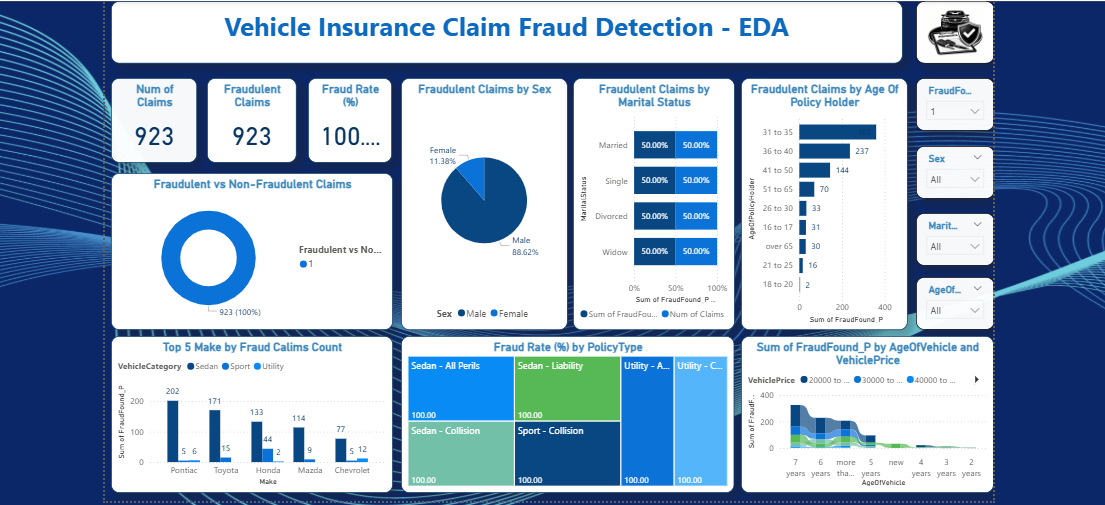

What the dashboard file says about the page in this screenshot:
{"tool":"powerbi","page":{"name":"Page 1","canvas":[1280,720],"ordinal":0},"visuals":[{"type":"textbox","box":[8.1,0,1139.5,89.5],"z":0},{"type":"image","box":[1167.4,0,112.8,89.5],"z":1000},{"type":"card","title":"Num of Claims","fields":{"Values":["vehicle_fraud.Num of Claims"]},"box":[8.1,110.5,124.4,122.1],"z":2000},{"type":"card","title":"Fraudulent Claims","fields":{"Values":["Sum(vehicle_fraud.FraudFound_P)"]},"box":[146.5,110.5,129.1,122.1],"z":3000},{"type":"card","title":"Fraud Rate (%)","fields":{"Values":["vehicle_fraud.Fraud Rate (%)"]},"box":[293,110.5,120.9,122.1],"z":4000},{"type":"donutChart","title":" Fraudulent vs Non-Fraudulent Claims ","fields":{"Category":["vehicle_fraud.FraudFound_P"],"Y":["vehicle_fraud.Num of Claims"]},"box":[8.1,247.7,405.8,225.6],"z":5000},{"type":"pieChart","title":" Fraudulent  Claims  by Sex","fields":{"Category":["vehicle_fraud.Sex"],"Y":["Sum(vehicle_fraud.FraudFound_P)"]},"box":[425.6,110.5,239.5,362.8],"z":6000},{"type":"hundredPercentStackedBarChart","title":" Fraudulent  Claims  by Marital Status","fields":{"Category":["vehicle_fraud.MaritalStatus"],"Y":["Sum(vehicle_fraud.FraudFound_P)","vehicle_fraud.Num of Claims"]},"box":[673.3,110.5,232.6,362.8],"z":7000},{"type":"clusteredBarChart","title":" Fraudulent  Claims  by Age Of Policy Holder","fields":{"Category":["vehicle_fraud.AgeOfPolicyHolder"],"Y":["Sum(vehicle_fraud.FraudFound_P)"]},"box":[916.3,110.5,239.5,362.8],"z":8000},{"type":"slicer","fields":{"Values":["vehicle_fraud.FraudFound_P"]},"box":[1167.4,110.5,112.8,75.6],"z":9000},{"type":"slicer","fields":{"Values":["vehicle_fraud.Sex"]},"box":[1167.4,209.3,112.8,75.6],"z":10000},{"type":"slicer","fields":{"Values":["vehicle_fraud.MaritalStatus"]},"box":[1167.4,305.8,112.8,75.6],"z":11000},{"type":"slicer","fields":{"Values":["vehicle_fraud.AgeOfPolicyHolder"]},"box":[1167.4,397.7,112.8,75.6],"z":12000},{"type":"clusteredColumnChart","title":" Top 5 Make by Fraud Calims Count","fields":{"Category":["vehicle_fraud.Make"],"Y":["Sum(vehicle_fraud.FraudFound_P)"],"Series":["vehicle_fraud.VehicleCategory"]},"box":[9.3,482.6,405.8,225.6],"z":13000},{"type":"treemap","fields":{"Group":["vehicle_fraud.PolicyType"],"Values":["vehicle_fraud.Fraud Rate (%)"]},"box":[426.2,482.5,480,226.2],"z":14000},{"type":"ribbonChart","fields":{"Category":["vehicle_fraud.AgeOfVehicle"],"Y":["Sum(vehicle_fraud.FraudFound_P)"],"Series":["vehicle_fraud.VehiclePrice"]},"box":[916.2,482.5,363.8,226.2],"z":14001}]}

Visuals, with their boxes on the page's 1280x720 design canvas (x1, y1, x2, y2). These are canvas units, not pixel positions in the 1105x505 screenshot, which may show the page scaled, cropped or inside an application window:
textbox: detection(8, 0, 1148, 90)
image: detection(1167, 0, 1280, 90)
"Num of Claims" card: detection(8, 110, 132, 233)
"Fraudulent Claims" card: detection(146, 110, 276, 233)
"Fraud Rate (%)" card: detection(293, 110, 414, 233)
" Fraudulent vs Non-Fraudulent Claims " donutChart: detection(8, 248, 414, 473)
" Fraudulent  Claims  by Sex" pieChart: detection(426, 110, 665, 473)
" Fraudulent  Claims  by Marital Status" hundredPercentStackedBarChart: detection(673, 110, 906, 473)
" Fraudulent  Claims  by Age Of Policy Holder" clusteredBarChart: detection(916, 110, 1156, 473)
slicer - vehicle_fraud.FraudFound_P: detection(1167, 110, 1280, 186)
slicer - vehicle_fraud.Sex: detection(1167, 209, 1280, 285)
slicer - vehicle_fraud.MaritalStatus: detection(1167, 306, 1280, 381)
slicer - vehicle_fraud.AgeOfPolicyHolder: detection(1167, 398, 1280, 473)
" Top 5 Make by Fraud Calims Count" clusteredColumnChart: detection(9, 483, 415, 708)
treemap - vehicle_fraud.PolicyType x vehicle_fraud.Fraud Rate (%): detection(426, 482, 906, 709)
ribbonChart - vehicle_fraud.AgeOfVehicle x Sum(vehicle_fraud.FraudFound_P): detection(916, 482, 1280, 709)
